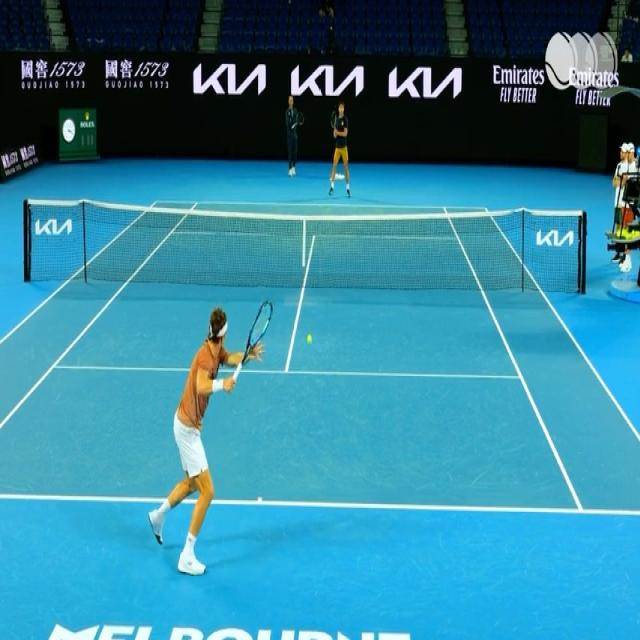forehand-ready: (151, 282, 276, 574)
